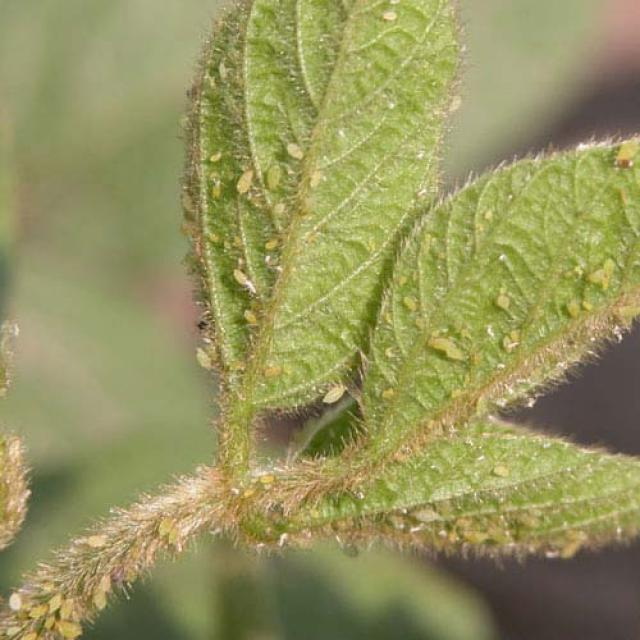Aphids: (424, 320, 482, 377), (223, 149, 272, 208), (308, 372, 356, 420), (224, 246, 264, 301), (477, 280, 523, 319), (399, 293, 434, 340)
